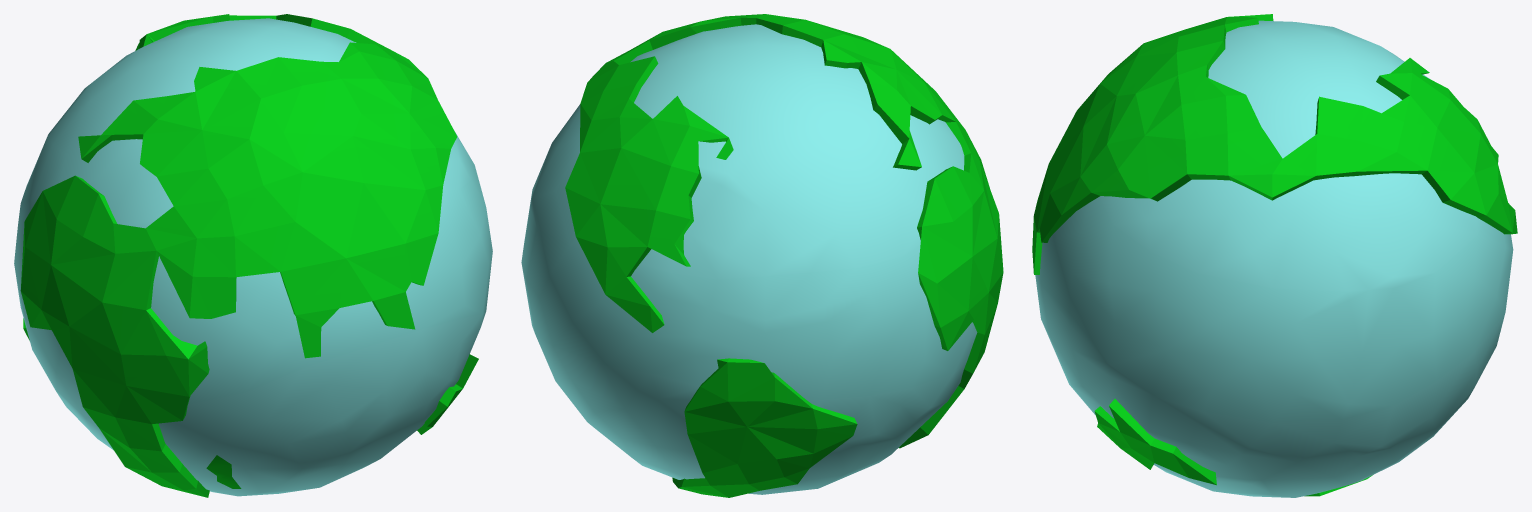
Rendered from Earth.obj.
The picture shows the model from 3 angles, left to right: view 1: azimuth 30°, elevation 25°; view 2: azimuth 150°, elevation 25°; view 3: azimuth 270°, elevation 25°; orthographic projection.
Visible parts, largest first — view 1: Earth; view 2: Earth; view 3: Earth.
Boxes of the visible parts, x1,y1,x2,y2 form: Earth: (14,14,492,497); Earth: (521,14,1003,497); Earth: (1032,14,1517,497).
Size of the model in its own units: 17.11 by 17 by 17.14.
1 material, 1 textured.
